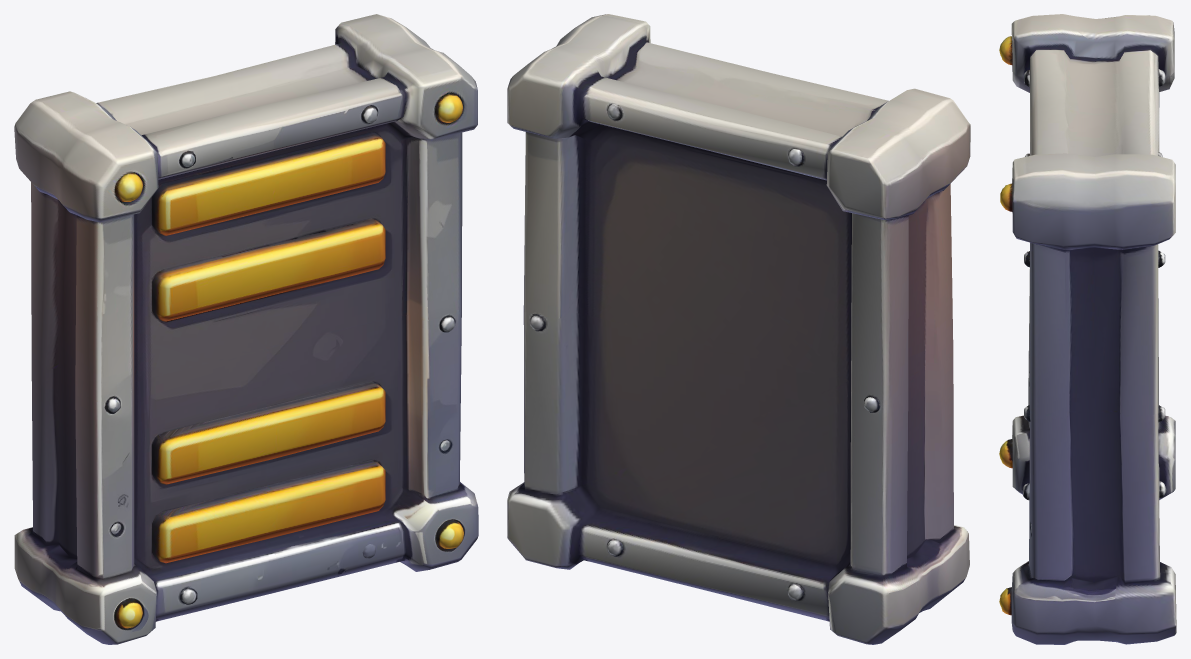
Rendered from selected.glb.
3 renders of one model, left to right at view 1: azimuth 30°, elevation 25°; view 2: azimuth 150°, elevation 25°; view 3: azimuth 270°, elevation 25°, orthographic. The views are drawn at different scales.
Visible parts, largest first — view 1: tripo_node_619c93a5-14c8-499d-be4b-2aecdb754adb; view 2: tripo_node_619c93a5-14c8-499d-be4b-2aecdb754adb; view 3: tripo_node_619c93a5-14c8-499d-be4b-2aecdb754adb.
Part boxes in pixels (<box>): tripo_node_619c93a5-14c8-499d-be4b-2aecdb754adb: <box>14,14,478,644</box>; tripo_node_619c93a5-14c8-499d-be4b-2aecdb754adb: <box>507,14,970,644</box>; tripo_node_619c93a5-14c8-499d-be4b-2aecdb754adb: <box>999,14,1176,644</box>.
Size of the model in its own units: 0.8262 by 0.998 by 0.3379.
1 material, 1 textured.
